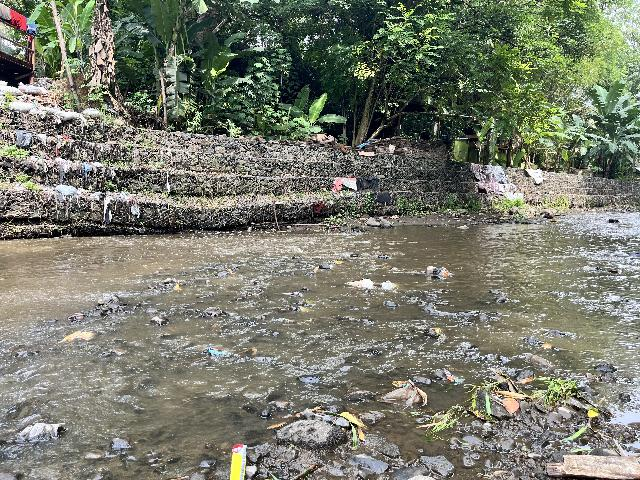Sampah Anorganik: (381, 380, 428, 406), (225, 444, 258, 480), (204, 343, 232, 357), (426, 265, 451, 279), (438, 368, 460, 383), (341, 280, 373, 288), (378, 281, 393, 290), (279, 292, 306, 297), (248, 278, 256, 283)
Sampah Organik: (469, 377, 640, 480), (271, 407, 371, 449), (58, 331, 97, 343), (295, 299, 316, 315), (430, 326, 446, 338), (164, 474, 190, 480), (68, 313, 89, 320), (240, 347, 258, 354), (541, 341, 553, 350), (171, 283, 182, 290), (225, 269, 235, 276), (332, 261, 345, 265), (311, 265, 317, 272)
